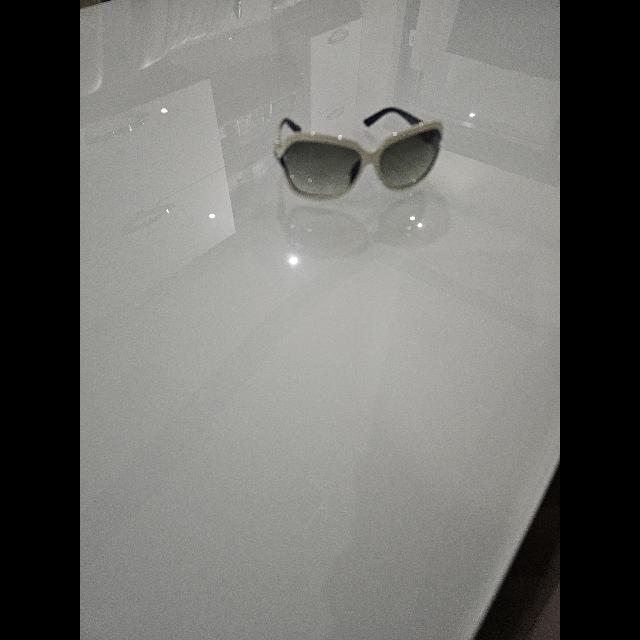Sunglasses: (274, 107, 442, 199)
